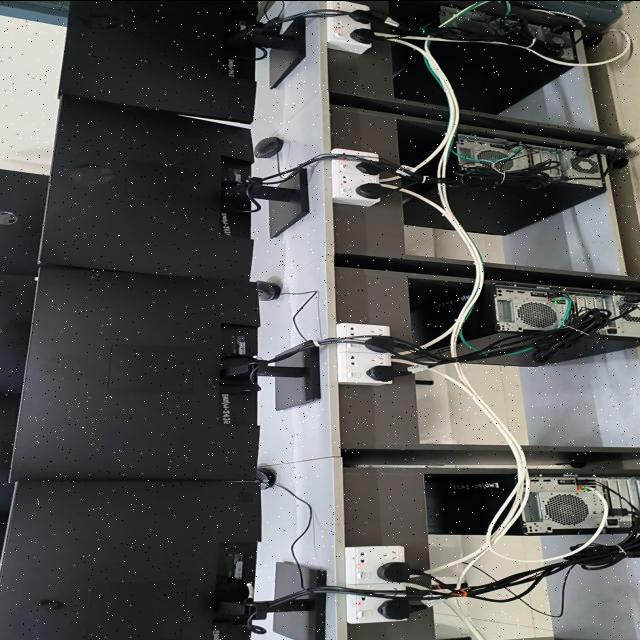Cpu: (400, 133, 611, 235), (388, 4, 577, 114), (404, 286, 640, 368), (418, 473, 640, 534)
Monitor: (11, 266, 320, 480), (0, 480, 324, 640), (39, 95, 309, 279), (60, 0, 305, 122), (0, 168, 49, 274), (0, 273, 36, 392), (0, 391, 20, 512), (0, 512, 8, 555)
Mouse: (254, 136, 282, 157), (255, 280, 280, 300), (256, 466, 275, 488)
